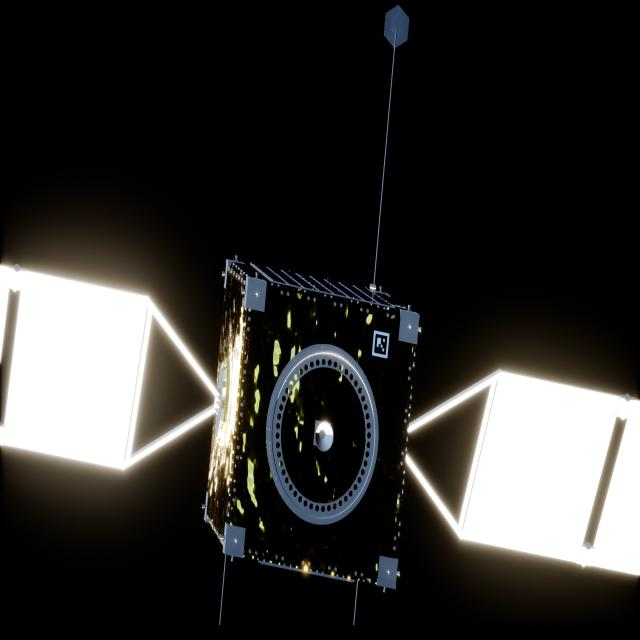medium_debris: (0, 257, 640, 605)
